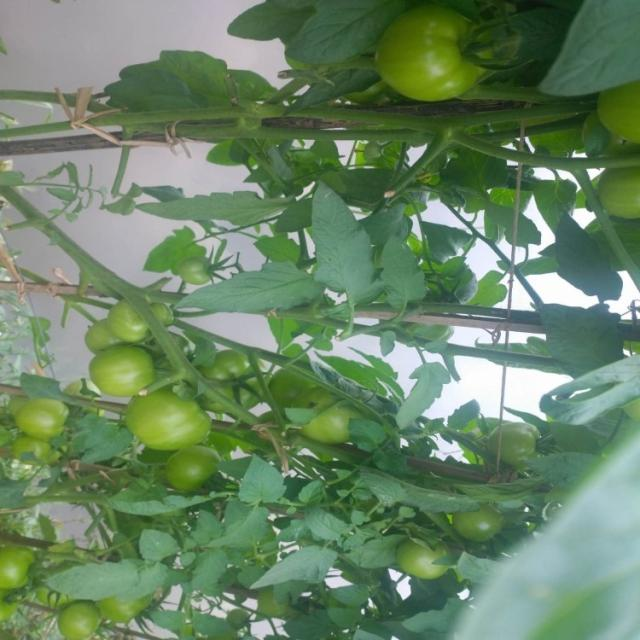tomato: (373, 7, 497, 110), (110, 383, 222, 451), (76, 338, 164, 397), (153, 439, 236, 498), (199, 350, 275, 406), (305, 401, 381, 448), (390, 529, 448, 590), (590, 87, 640, 155), (489, 420, 553, 470), (13, 393, 68, 450), (586, 164, 640, 220), (4, 545, 40, 616), (458, 507, 512, 552), (107, 292, 151, 342), (59, 599, 106, 640), (178, 253, 220, 296), (78, 319, 120, 353)
